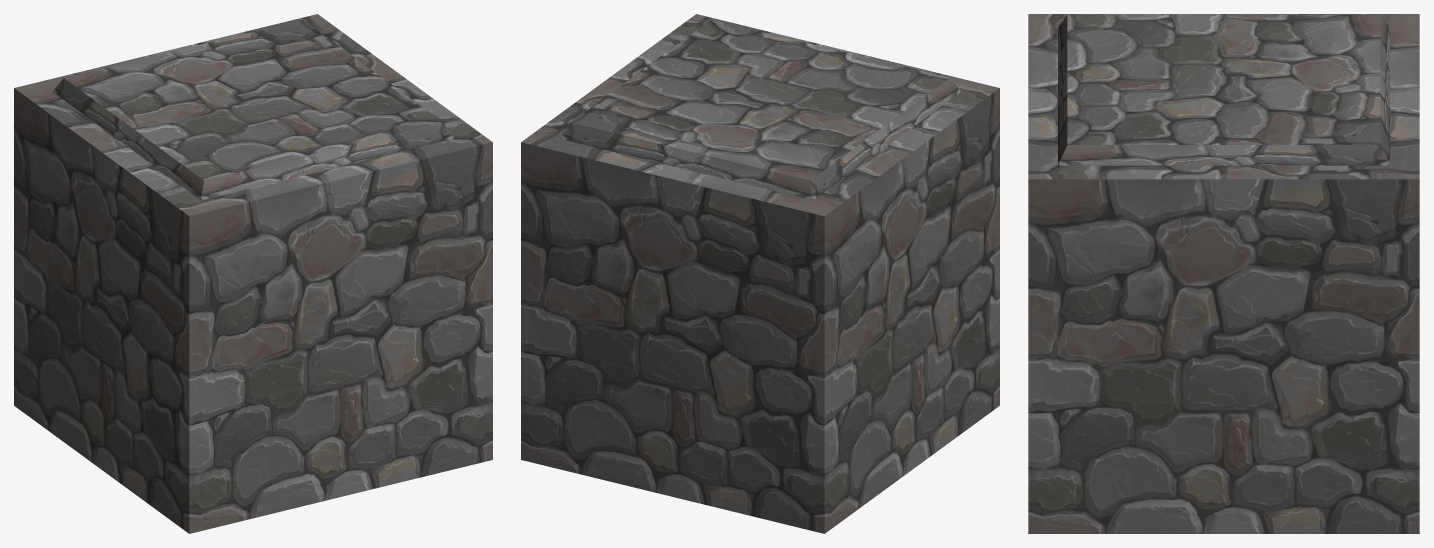
File: button floor.FBX
The picture shows the model from 3 angles, left to right: view 1: azimuth 30°, elevation 25°; view 2: azimuth 150°, elevation 25°; view 3: azimuth 270°, elevation 25°; orthographic projection. The views are drawn at different scales.
Parts seen in each view (by area): view 1: Box001, Box002; view 2: Box001, Box002; view 3: Box001, Box002.
Part boxes in pixels (left/top/right/bottom): Box001: left=14, top=14, right=492, bottom=533; Box002: left=52, top=19, right=453, bottom=200; Box001: left=521, top=14, right=999, bottom=533; Box002: left=560, top=19, right=961, bottom=200; Box001: left=1028, top=14, right=1419, bottom=533; Box002: left=1058, top=14, right=1389, bottom=165.
Bounding box in the file's own units: 1 × 1.05 × 1.
